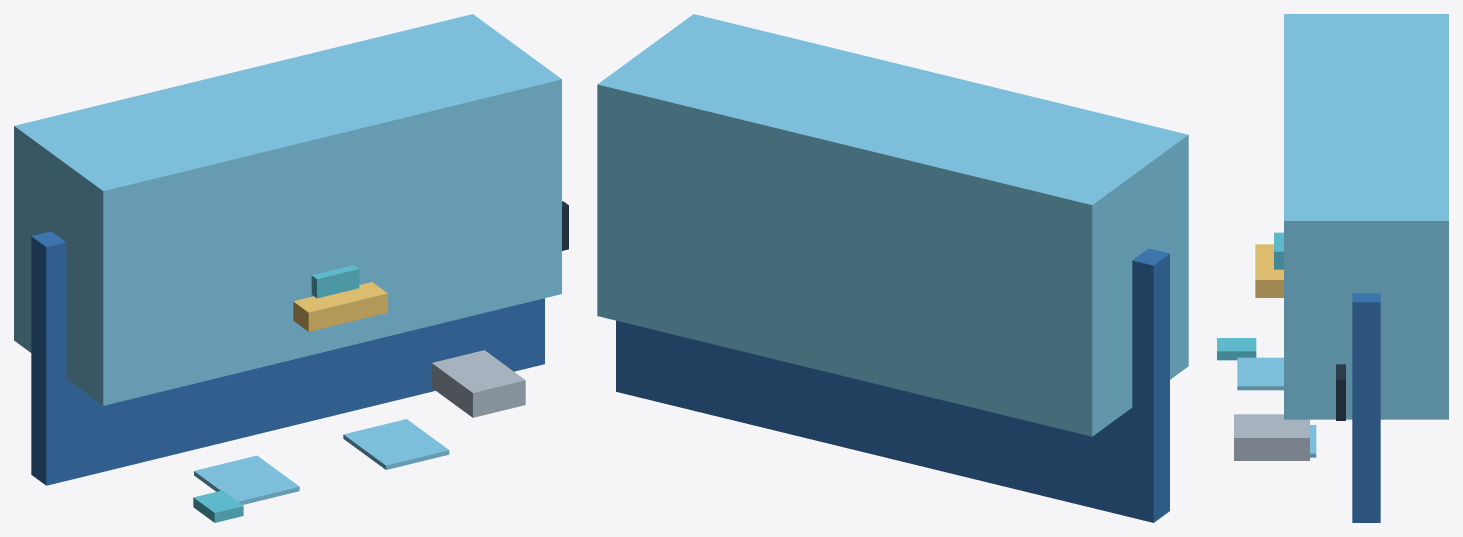
Rendered from automatic-beverage-multipack-cartoner.gltf.
The picture shows the model from 3 angles, left to right: view 1: azimuth 30°, elevation 25°; view 2: azimuth 150°, elevation 25°; view 3: azimuth 270°, elevation 25°; orthographic projection. The views are drawn at different scales.
Parts seen in each view (by area): view 1: Machine envelope, Base frame, Electrical cabinet, Service door B, Service door A, Product tooling, Pneumatic manifold, Control panel; view 2: Machine envelope, Base frame; view 3: Machine envelope, Base frame, Electrical cabinet, Service door A, Product tooling, Control panel, Outfeed conveyor, Pneumatic manifold.
Boxes of the visible parts, x1,y1,x2,y2 form: Machine envelope: (14,14,561,405); Base frame: (31,231,544,485); Electrical cabinet: (431,350,525,417); Service door B: (343,419,449,469); Service door A: (194,455,299,504); Product tooling: (293,282,387,331); Pneumatic manifold: (311,265,359,298); Control panel: (193,490,243,522); Machine envelope: (597,14,1188,436); Base frame: (616,248,1169,522); Machine envelope: (1284,14,1448,419); Base frame: (1352,293,1380,522); Electrical cabinet: (1234,414,1309,460); Service door A: (1237,357,1283,390); Product tooling: (1255,244,1283,297); Control panel: (1217,338,1256,360); Outfeed conveyor: (1336,364,1345,420); Pneumatic manifold: (1274,232,1283,269).
Bounding box in the file's own units: 9.73 × 5.86 × 4.12.
